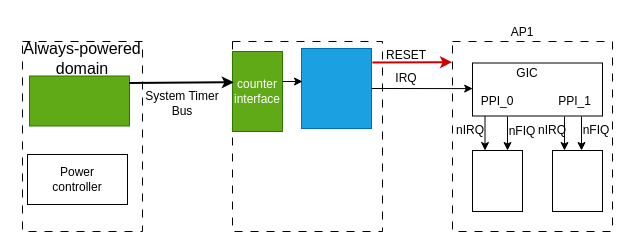
Image size: 643x249. Some labels were removed from this diagram. The box of each missing label's shape, as (x1, y1, x2, y2) in pixels:
System counter: (28, 75, 130, 126)
watch dog timer: (300, 48, 372, 128)
